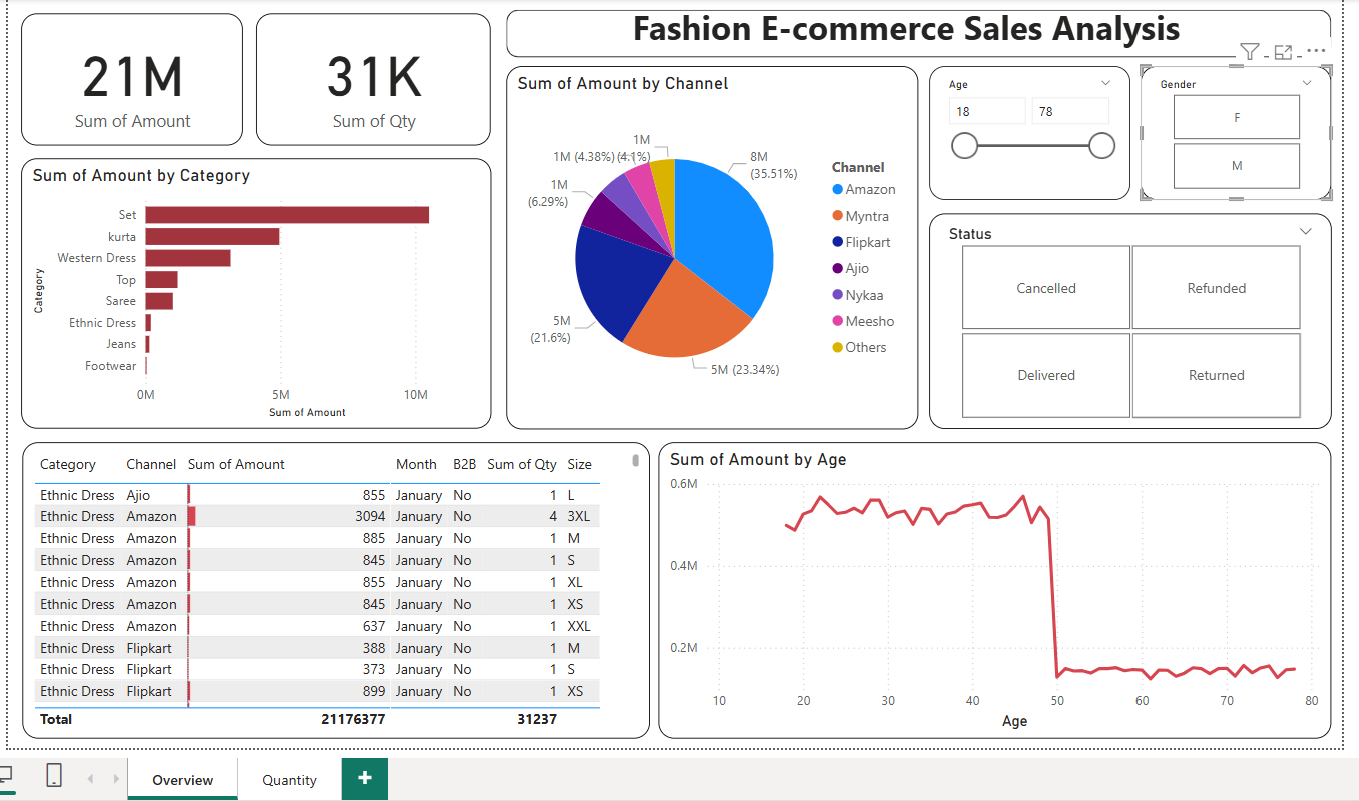

Layout of this report page (visuals, bound fields, positions):
{"tool":"powerbi","page":{"name":"Overview","canvas":[1280,720],"ordinal":0},"visuals":[{"type":"tableEx","fields":{"Values":["Fashion E-commerce sales.Category","Fashion E-commerce sales.Channel ","Sum(Fashion E-commerce sales.Amount)","Fashion E-commerce sales.Date.Variation.Date Hierarchy.Month","Fashion E-commerce sales.B2B","Sum(Fashion E-commerce sales.Qty)","Fashion E-commerce sales.Size"]},"box":[13.3,425.7,603,284.6],"z":0},{"type":"card","fields":{"Values":["Sum(Fashion E-commerce sales.Amount)"]},"box":[12.9,14.3,212.9,127.1],"z":1000},{"type":"card","fields":{"Values":["Sum(Fashion E-commerce sales.Qty)"]},"box":[238.6,14.3,225.7,127.1],"z":2000},{"type":"slicer","fields":{"Values":["Fashion E-commerce sales.Age"]},"box":[884.3,64.3,192.9,128.6],"z":3000},{"type":"slicer","fields":{"Values":["Fashion E-commerce sales.Gender"]},"box":[1087.1,64.3,182.9,128.6],"z":4000},{"type":"clusteredBarChart","fields":{"Category":["Fashion E-commerce sales.Category"],"Y":["Sum(Fashion E-commerce sales.Amount)"]},"box":[12.9,152.9,451.4,260],"z":5000},{"type":"lineChart","fields":{"Category":["Fashion E-commerce sales.Age"],"Y":["Sum(Fashion E-commerce sales.Amount)"]},"box":[624.7,425.7,645.2,284.6],"z":6000},{"type":"slicer","fields":{"Values":["Fashion E-commerce sales.Status"]},"box":[884.3,205.7,385.7,207.1],"z":7000},{"type":"pieChart","fields":{"Category":["Fashion E-commerce sales.Channel "],"Y":["Sum(Fashion E-commerce sales.Amount)"]},"box":[478.6,64.3,395.7,348.6],"z":8000},{"type":"textbox","box":[498.6,0,728.6,64.3],"z":9000},{"type":"shape","box":[478.6,10,791.4,45.7],"z":9001}]}

Visuals, with their boxes in screenshot pixels (x1, y1, x2, y2):
tableEx - Fashion E-commerce sales.Category x Fashion E-commerce sales.Channel : [x1=17, y1=439, x2=649, y2=737]
card - Sum(Fashion E-commerce sales.Amount): [x1=17, y1=8, x2=240, y2=141]
card - Sum(Fashion E-commerce sales.Qty): [x1=253, y1=8, x2=490, y2=141]
slicer - Fashion E-commerce sales.Age: [x1=929, y1=60, x2=1131, y2=195]
slicer - Fashion E-commerce sales.Gender: [x1=1142, y1=60, x2=1333, y2=195]
clusteredBarChart - Fashion E-commerce sales.Category x Sum(Fashion E-commerce sales.Amount): [x1=17, y1=153, x2=490, y2=425]
lineChart - Fashion E-commerce sales.Age x Sum(Fashion E-commerce sales.Amount): [x1=658, y1=439, x2=1333, y2=737]
slicer - Fashion E-commerce sales.Status: [x1=929, y1=208, x2=1333, y2=425]
pieChart - Fashion E-commerce sales.Channel  x Sum(Fashion E-commerce sales.Amount): [x1=505, y1=60, x2=919, y2=425]
textbox: [x1=526, y1=0, x2=1288, y2=60]
shape: [x1=505, y1=3, x2=1333, y2=51]
